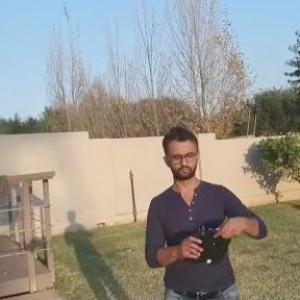follow: (137, 121, 270, 299)
